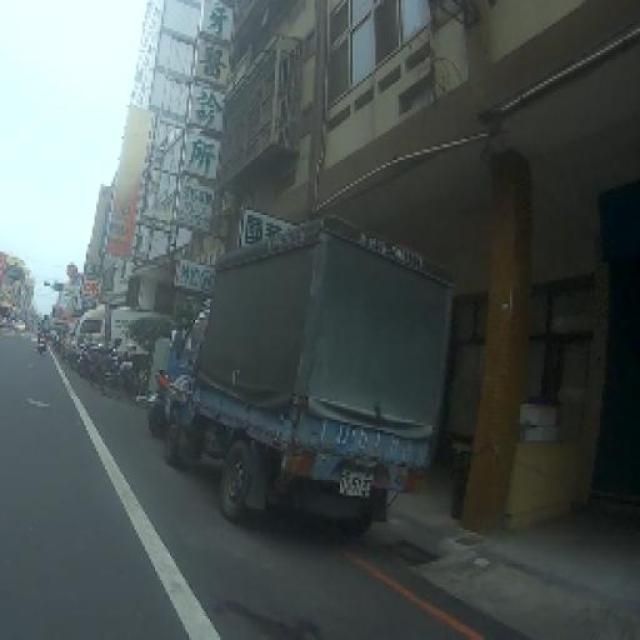illegalparking: (130, 191, 514, 584)
